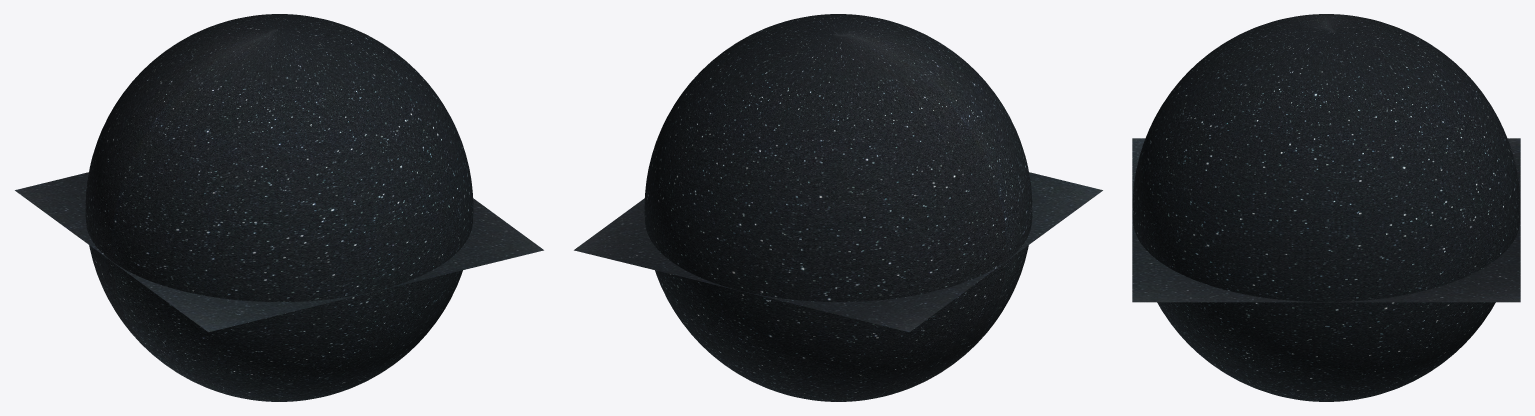
The model's file is solar_system_360.glb.
The picture shows the model from 3 angles, left to right: view 1: azimuth 30°, elevation 25°; view 2: azimuth 150°, elevation 25°; view 3: azimuth 270°, elevation 25°; orthographic projection.
Visible parts, largest first — view 1: Sphere, Plane.001; view 2: Sphere, Plane.001; view 3: Sphere, Plane.001.
Part boxes in pixels (left/top/right/bottom): Sphere: left=85, top=14, right=473, bottom=401; Plane.001: left=15, top=172, right=543, bottom=332; Sphere: left=644, top=14, right=1032, bottom=401; Plane.001: left=574, top=172, right=1102, bottom=332; Sphere: left=1132, top=14, right=1520, bottom=401; Plane.001: left=1132, top=138, right=1520, bottom=302.
Size of the model in its own units: 48.02 by 48.02 by 48.02.
Materials: 13 (12 with a texture image).
